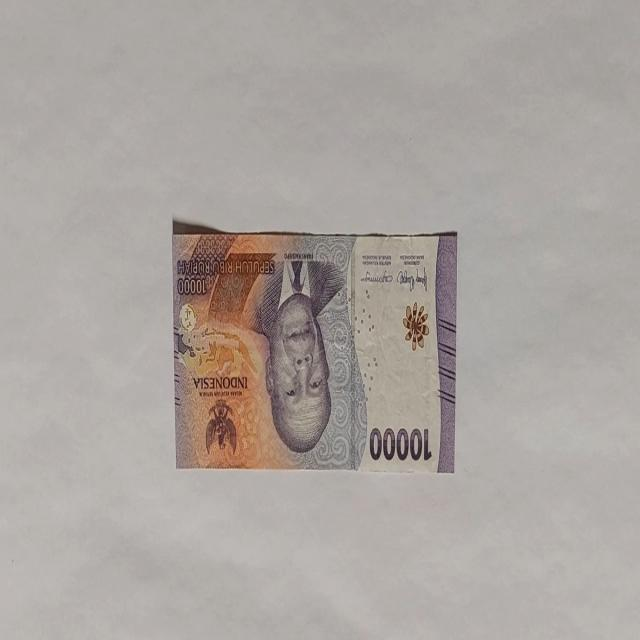sepuluh ribu rupiah: (172, 224, 458, 473)
